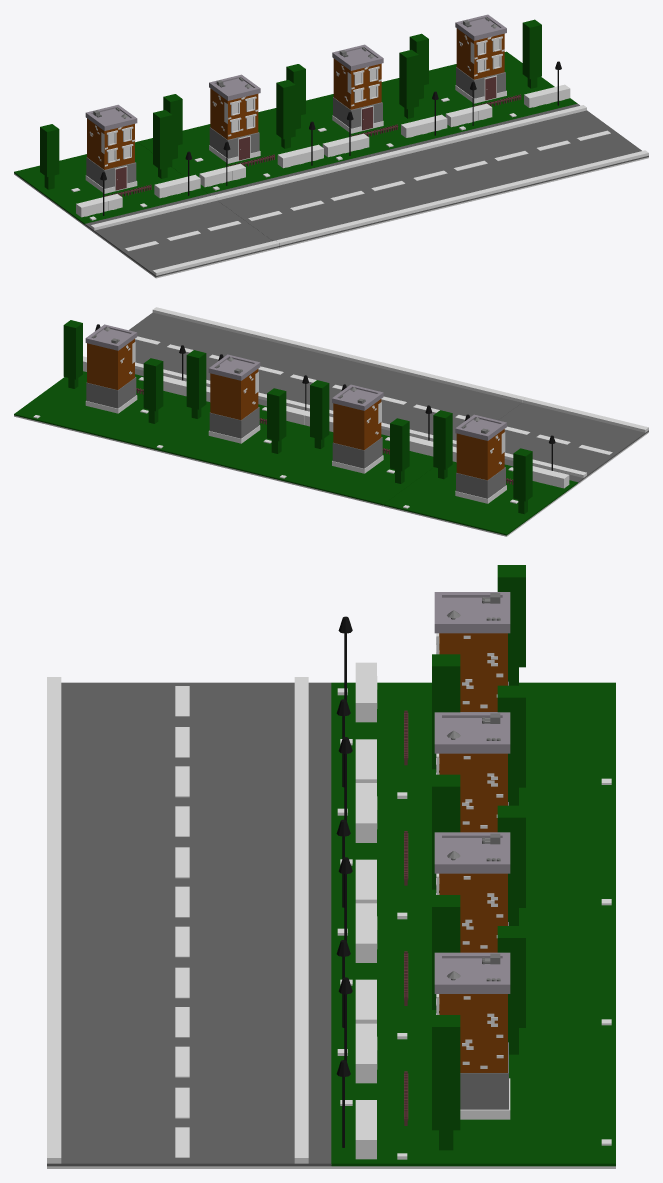
The model's file is day1.fbx.
3 renders of one model, top to bottom at view 1: azimuth 30°, elevation 25°; view 2: azimuth 150°, elevation 25°; view 3: azimuth 270°, elevation 25°, orthographic. The views are drawn at different scales.
Visible parts, largest first — view 1: Cube.003, Cube.028, Cube.097, Cube.066, Cube.002, Cube.027, Cube.065, Cube.096, Cube.063, Cube.094, Cube.024, Cube (+33 smaller); view 2: Cube.003, Cube.002, Cube.027, Cube.065, Cube.096, Cube.028, Cube.066, Cube.097, Cube.024, Cube.063, Cube, Cube.094 (+26 smaller); view 3: Cube.097, Cube.028, Cube.066, Cube.003, Cube.096, Cube.002, Cube.065, Cube.027, Cube.094, Cube.063, Cube.024, Cube (+30 smaller).
Boxes of the visible parts, <box> form: Cube.003: <box>85,194,279,276</box>; Cube.028: <box>208,164,402,246</box>; Cube.097: <box>455,103,648,186</box>; Cube.066: <box>332,133,525,216</box>; Cube.002: <box>14,142,207,224</box>; Cube.027: <box>137,111,331,193</box>; Cube.065: <box>261,81,454,163</box>; Cube.096: <box>384,51,577,133</box>; Cube.063: <box>333,58,381,109</box>; Cube.094: <box>456,28,504,79</box>; Cube.024: <box>210,88,258,139</box>; Cube: <box>87,118,134,169</box>; Cube.003: <box>498,403,648,482</box>; Cube.002: <box>383,461,577,535</box>; Cube.027: <box>260,431,433,505</box>; Cube.065: <box>137,401,310,475</box>; Cube.096: <box>14,371,187,445</box>; Cube.028: <box>375,372,521,447</box>; Cube.066: <box>252,342,398,416</box>; Cube.097: <box>129,312,275,386</box>; Cube.024: <box>333,399,381,449</box>; Cube.063: <box>210,369,258,419</box>; Cube: <box>456,429,504,480</box>; Cube.094: <box>87,339,134,389</box>; Cube.097: <box>47,1043,331,1166</box>; Cube.028: <box>61,803,331,923</box>; Cube.066: <box>61,923,331,1043</box>; Cube.003: <box>61,682,331,802</box>; Cube.096: <box>331,1043,615,1166</box>; Cube.002: <box>331,682,615,802</box>; Cube.065: <box>331,923,615,1043</box>; Cube.027: <box>331,803,615,923</box>; Cube.094: <box>439,994,507,1072</box>; Cube.063: <box>439,873,507,952</box>; Cube.024: <box>439,753,507,832</box>; Cube: <box>439,633,507,711</box>.
Size of what is drawn, in the model's own units: 16005 by 2272 by 8000.
